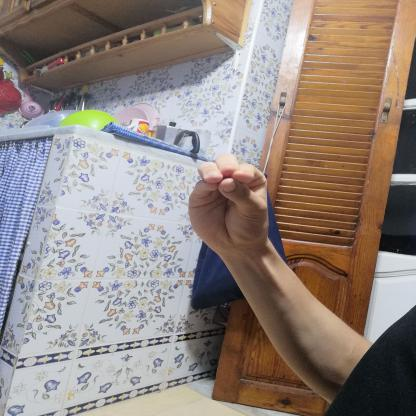HA: (170, 144, 288, 262)
